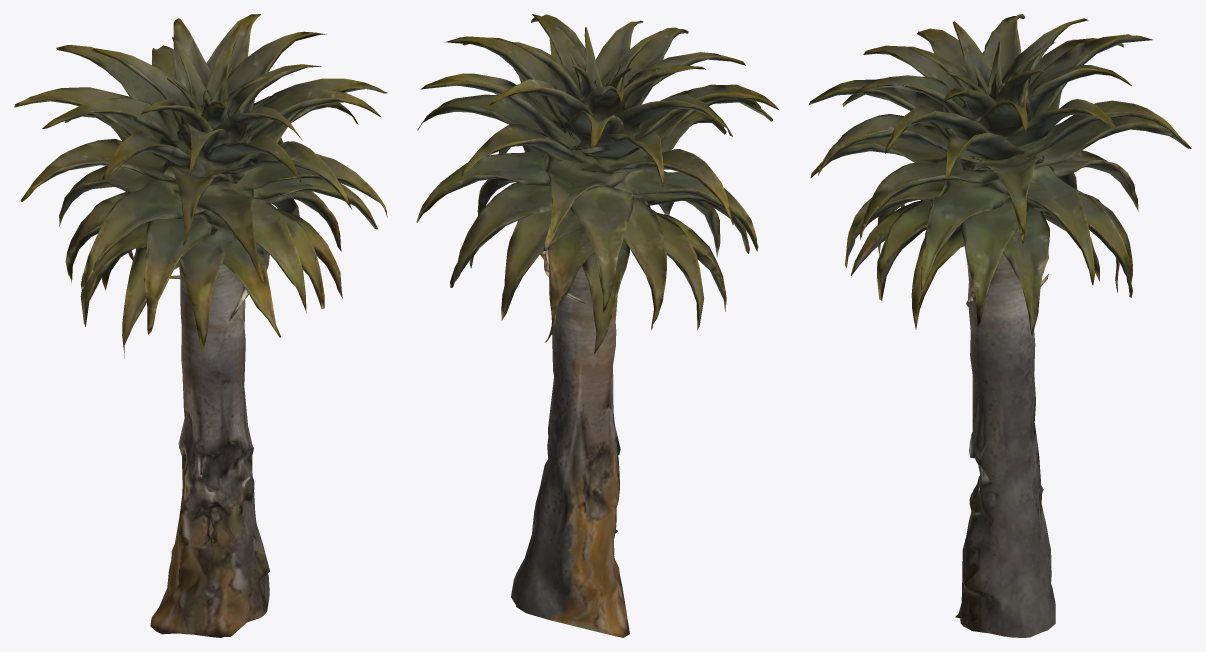
Rendered from quiver_tree_02.glb.
3 views of the same model, side by side, from view 1: azimuth 30°, elevation 25°; view 2: azimuth 150°, elevation 25°; view 3: azimuth 270°, elevation 25° (orthographic).
Visible parts, largest first — view 1: quiver_tree_02; view 2: quiver_tree_02; view 3: quiver_tree_02.
Part boxes in pixels (box(x1,y1,x2,y2)): quiver_tree_02: box(14, 14, 387, 637); quiver_tree_02: box(416, 14, 778, 637); quiver_tree_02: box(808, 14, 1191, 637).
Bounding box in the file's own units: 0.8716 × 1.47 × 0.8805.
1 material, 1 textured.
